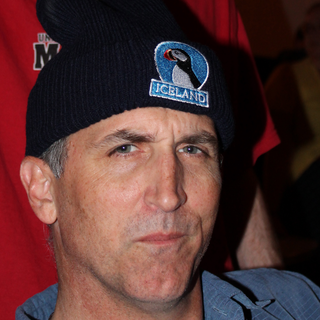eye: (103, 138, 148, 163), (174, 139, 211, 164)
